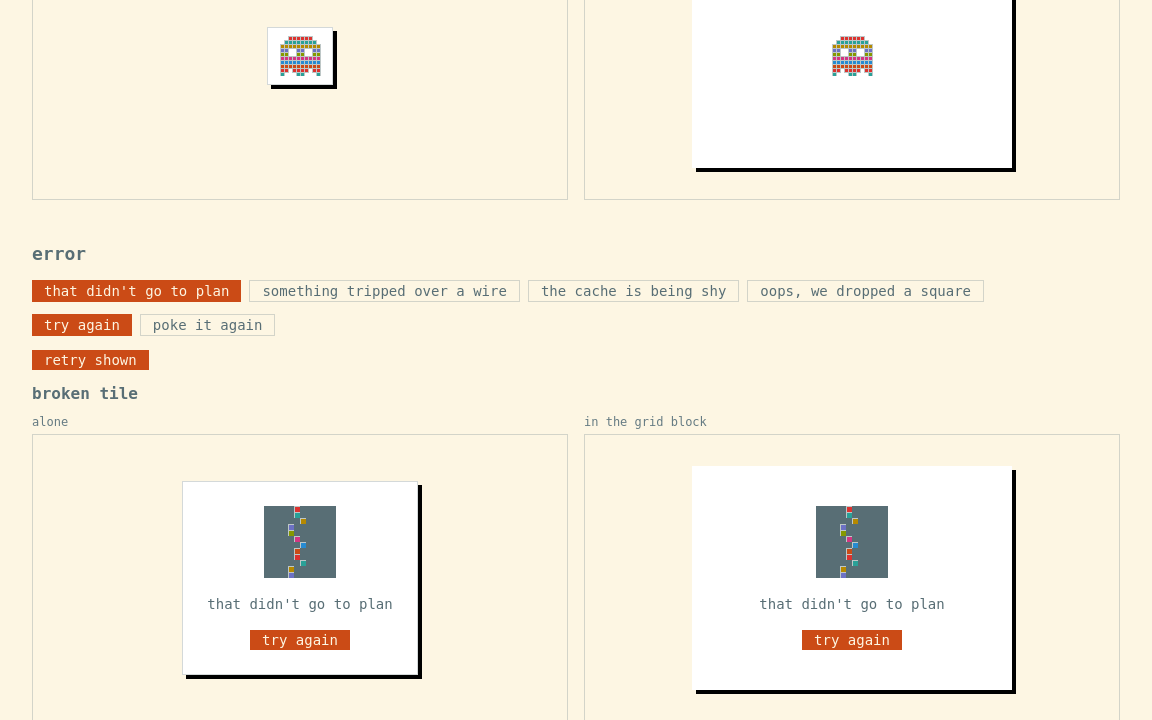
Scenario: States › hides the retry button when retry is off
(page scrolled)
Click the button "retry shown" at (90, 360), box [32,350,149,370]
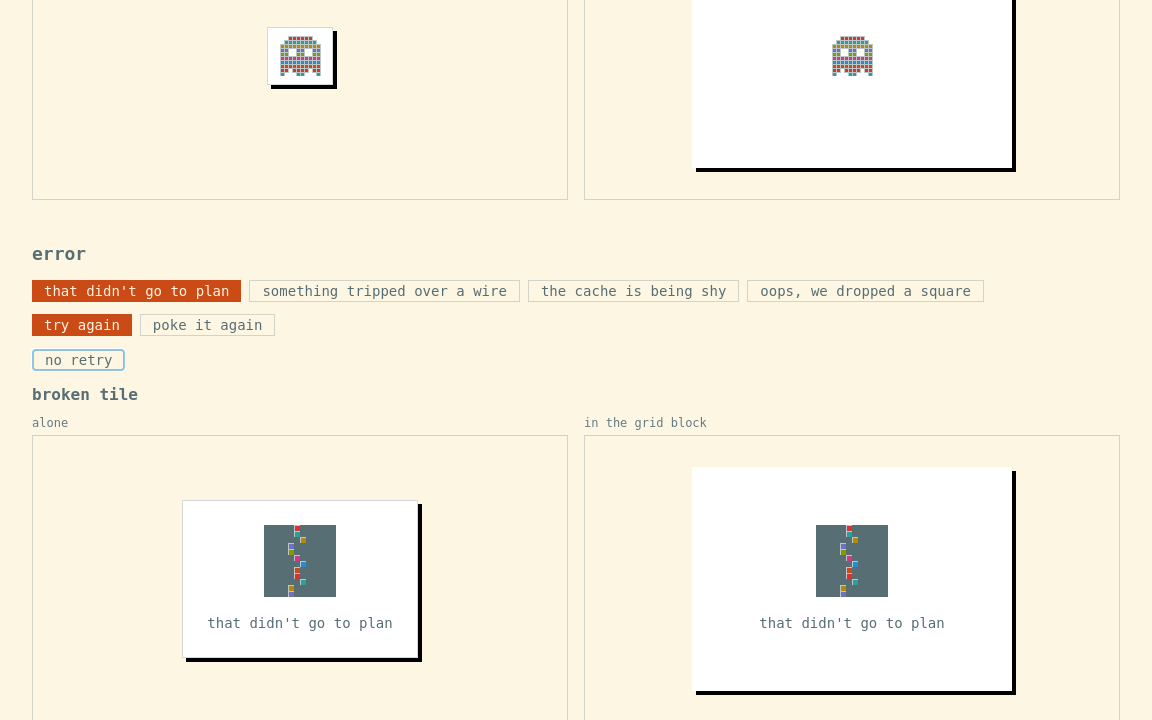
Expected: the number of buttons "try again" is 1, [32,314,132,336]
Expected: the button "no retry" is shown, [32,349,125,371]
